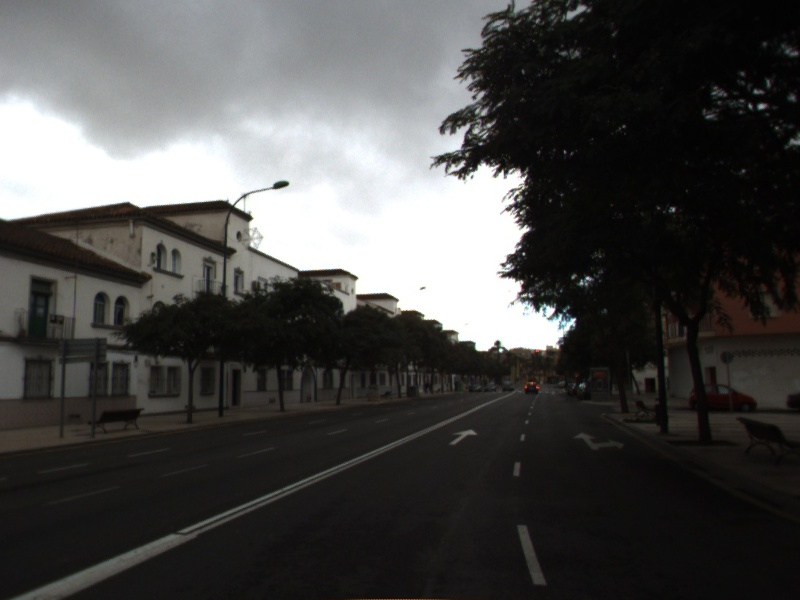STRAIGHT: (447, 428, 480, 446)
STRAIGHT_RIGHT: (572, 430, 626, 451)
